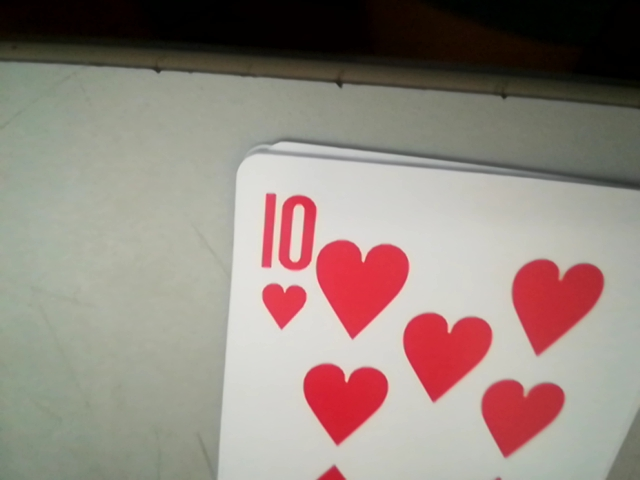hx 10: (246, 193, 322, 329)
